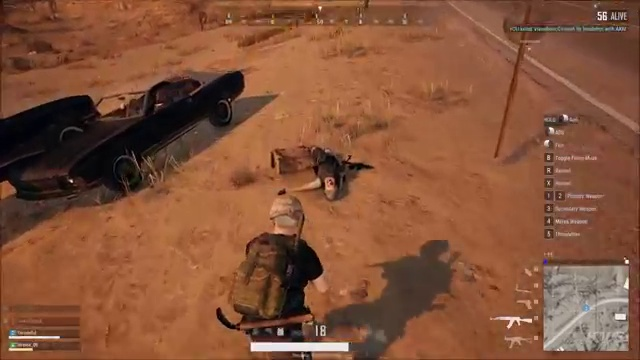Player: (193, 191, 357, 320)
